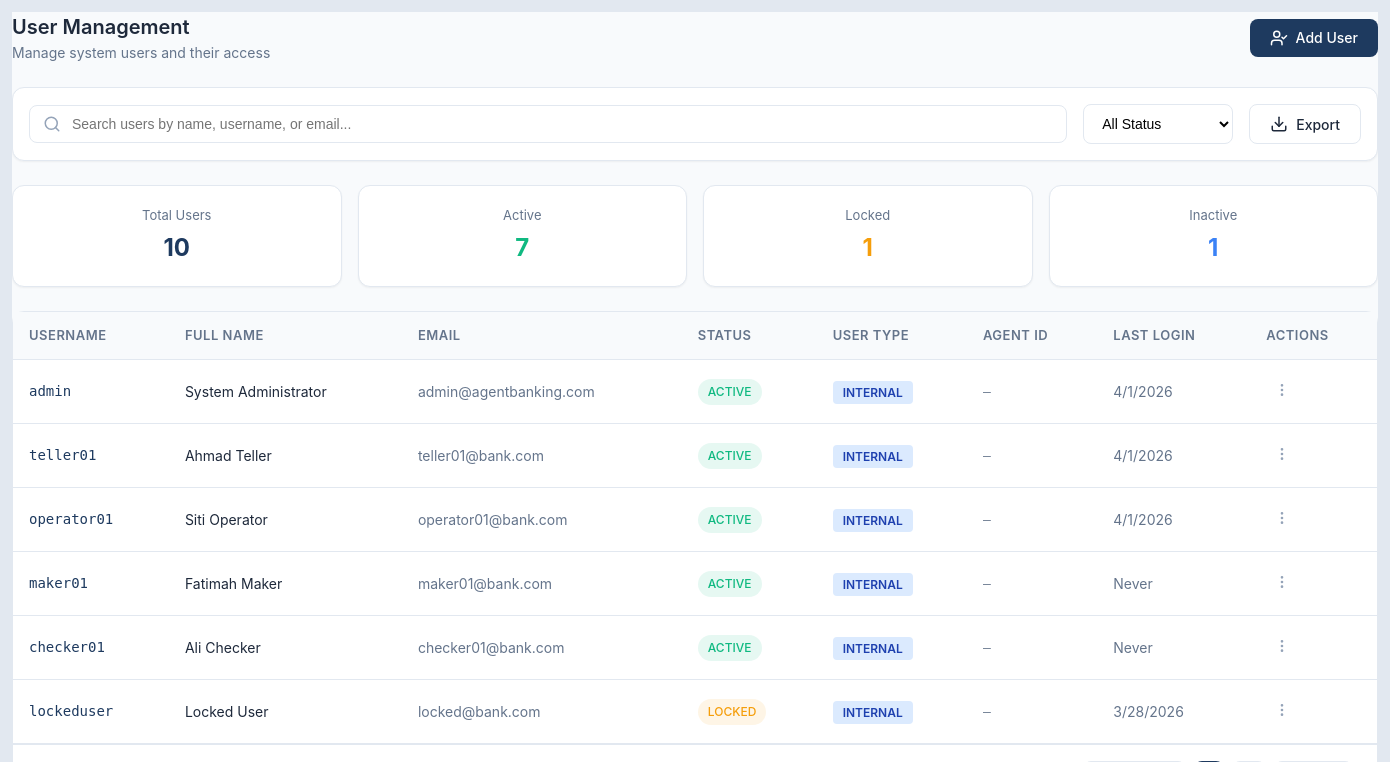
Test case: UserManagement › should show action menu when action button is clicked
Click the button with test id "action-" at (1282, 392), box left=1266, top=374, right=1298, bottom=409
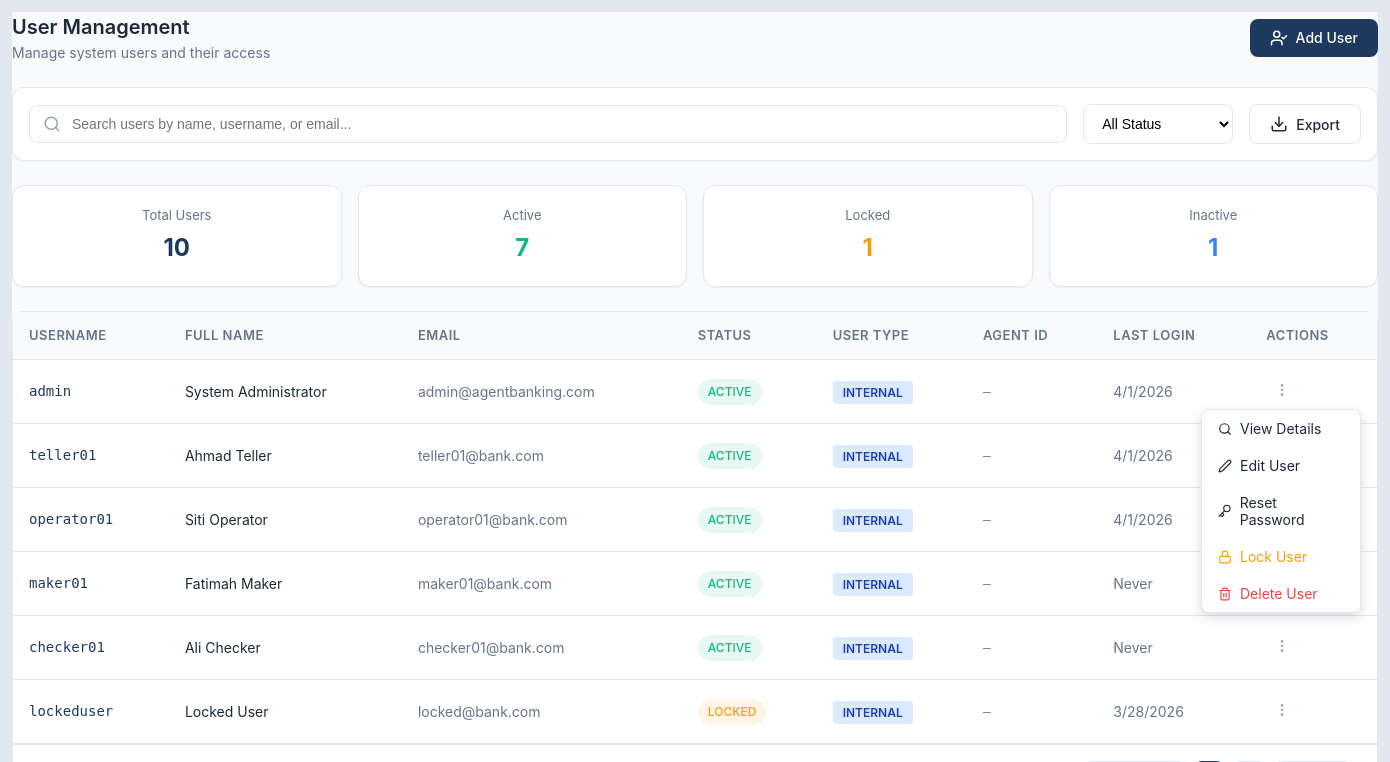
Expected: the button "View Details" is shown, left=1202, top=410, right=1360, bottom=447
Expected: the button "Edit User" is shown, left=1202, top=447, right=1360, bottom=484
Expected: the button "Reset Password" is shown, left=1202, top=484, right=1360, bottom=538
